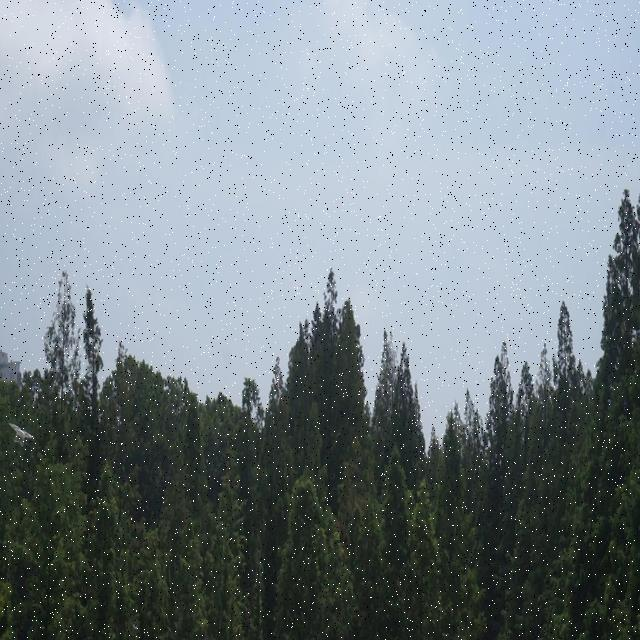UAV: (9, 422, 34, 447)
